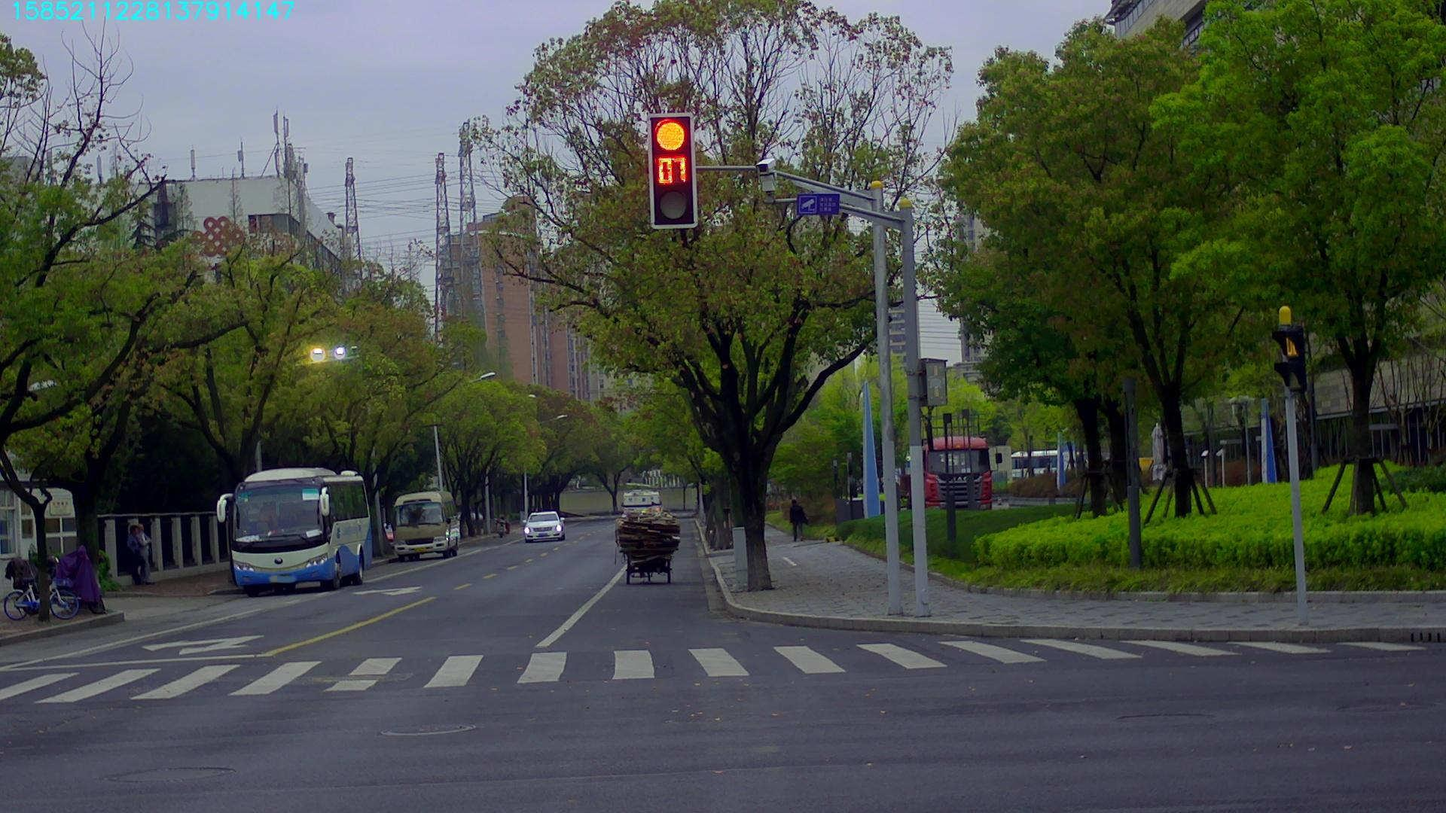red: (650, 114, 694, 226)
